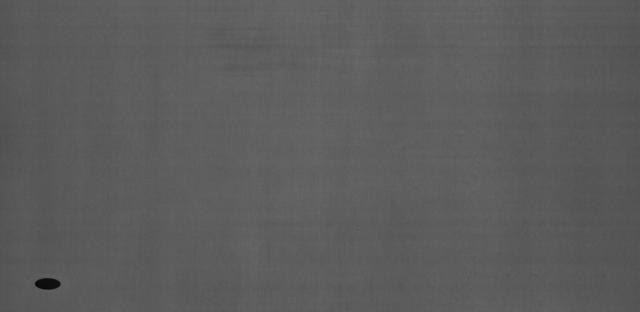punching_hole: (31, 274, 65, 294)
